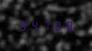eight: (62, 20, 72, 31)
four: (29, 20, 39, 31)
nine: (18, 20, 28, 31)
seven: (40, 20, 50, 31)
zero: (51, 20, 61, 31)
